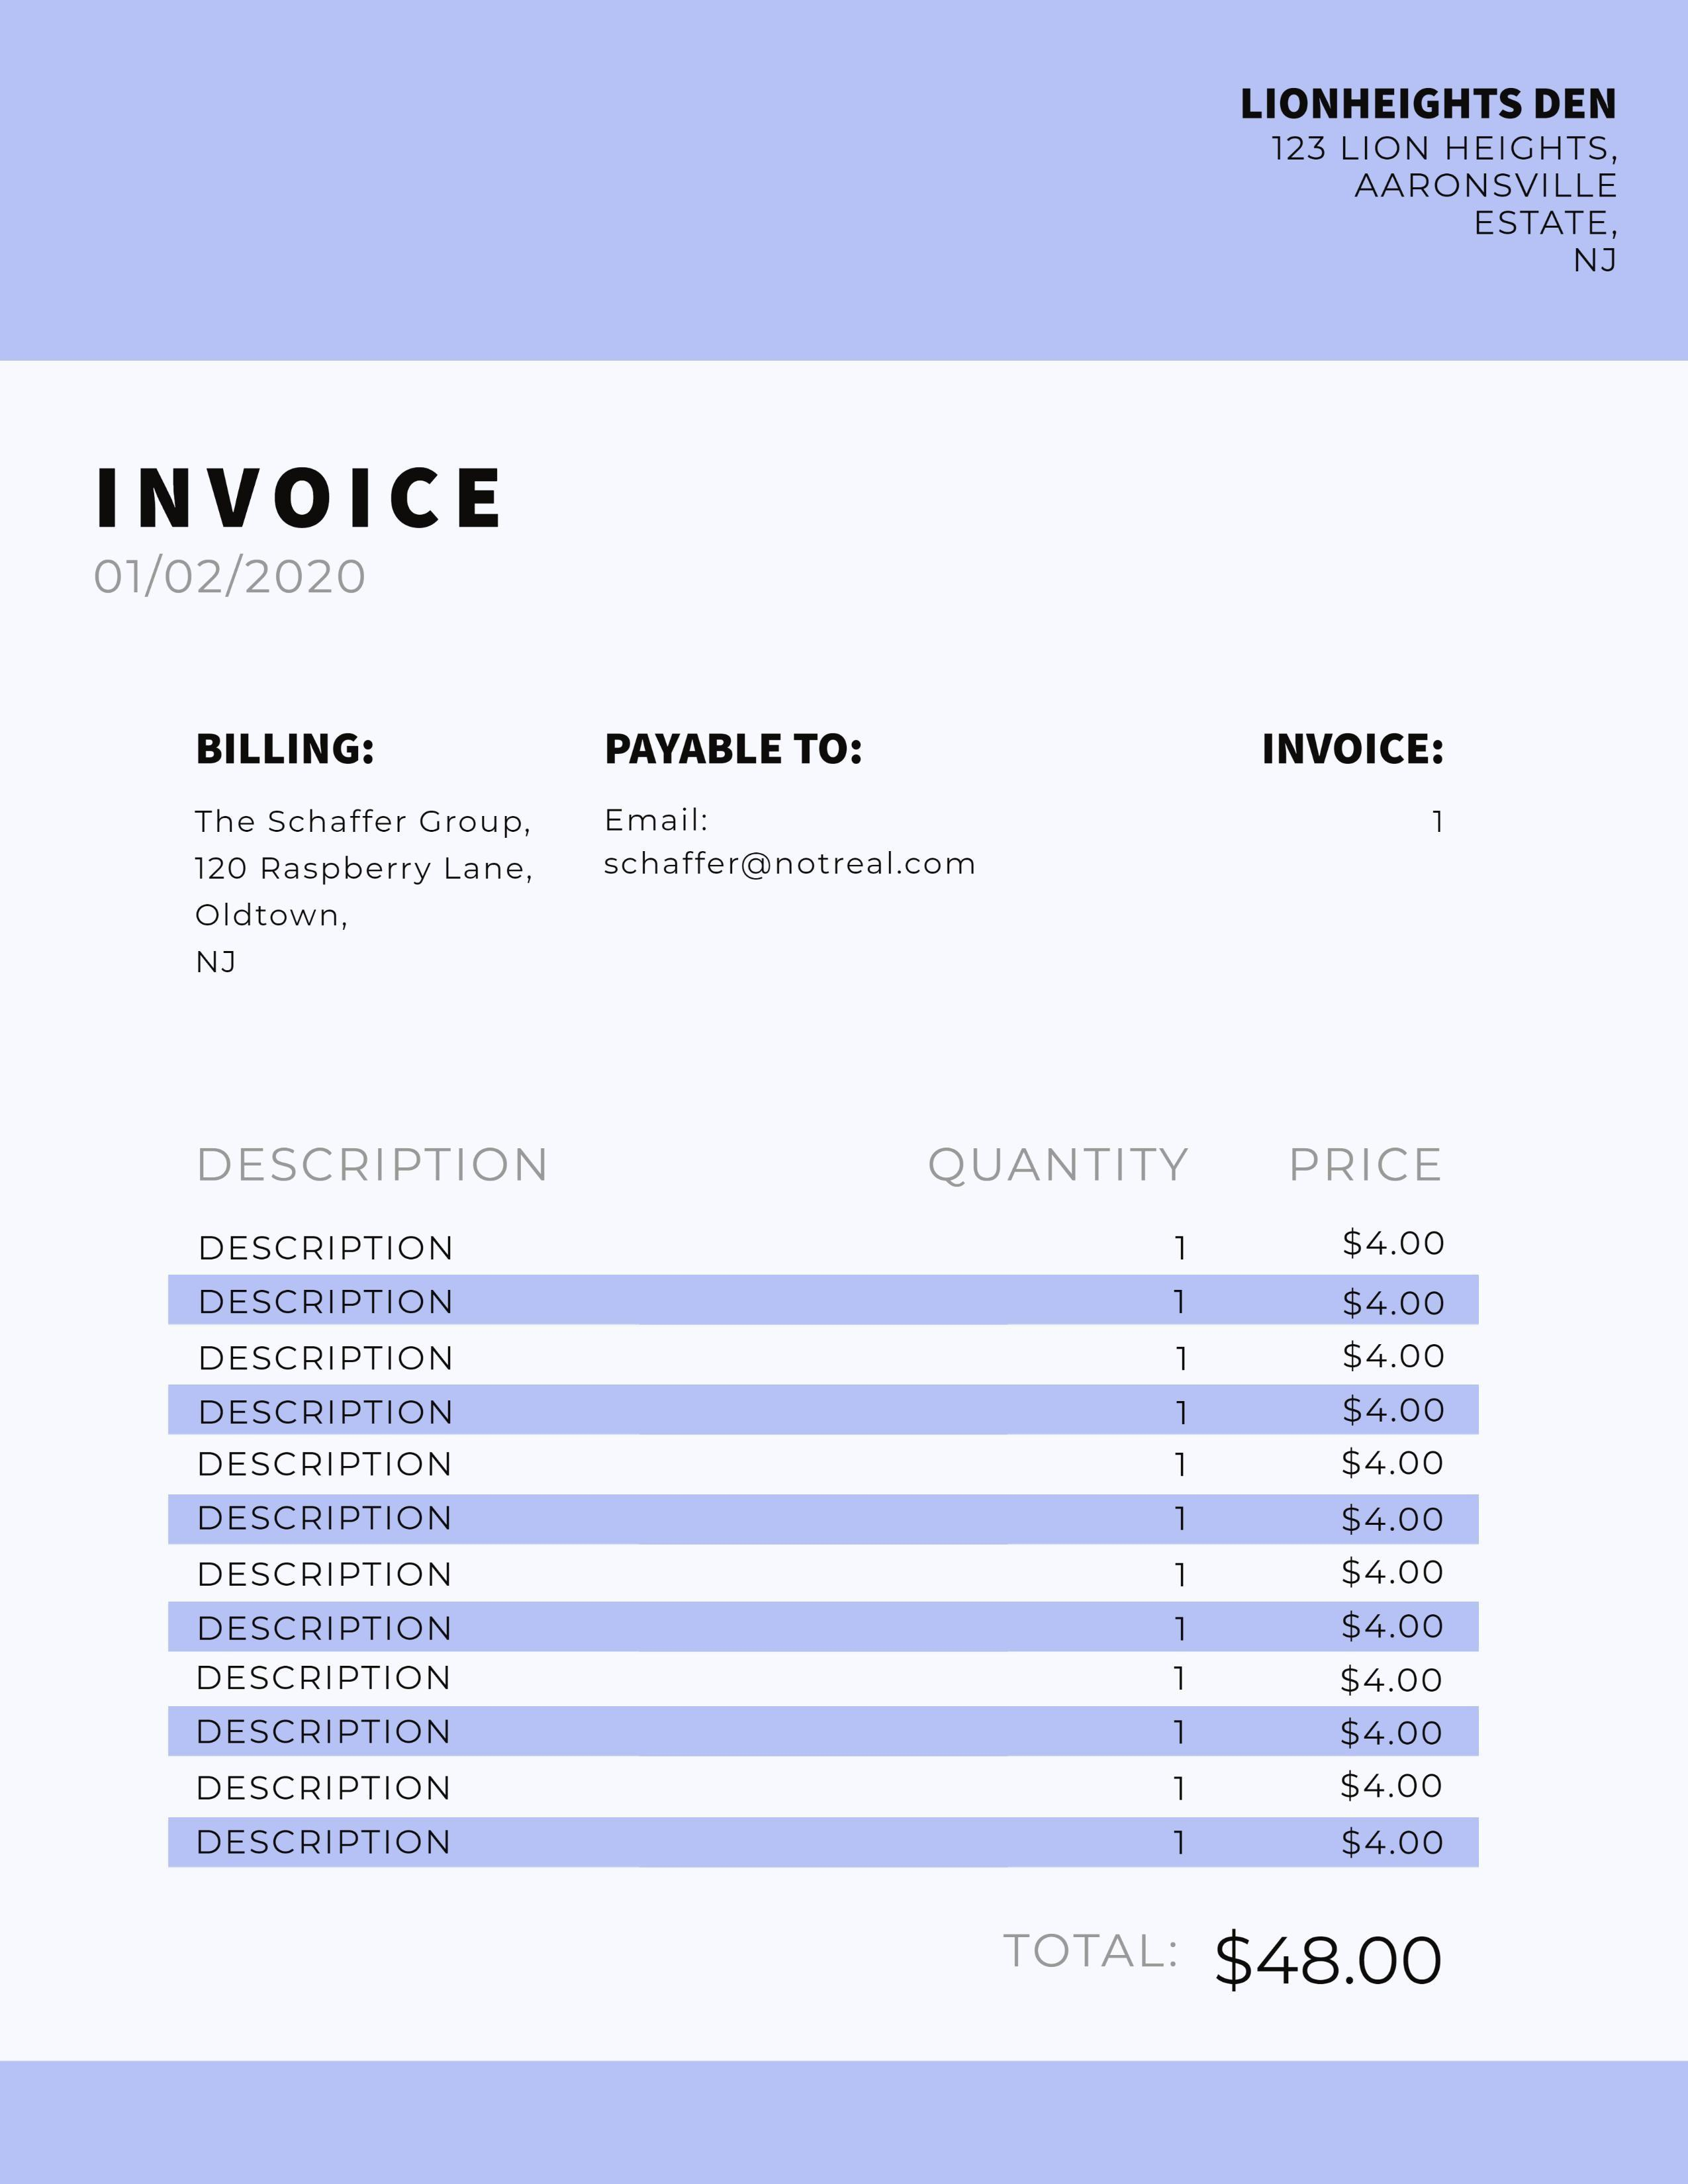ROI: (165, 1142, 1483, 1870), (1237, 76, 1659, 302), (189, 731, 553, 983), (596, 726, 986, 909), (996, 1919, 1446, 2002)
